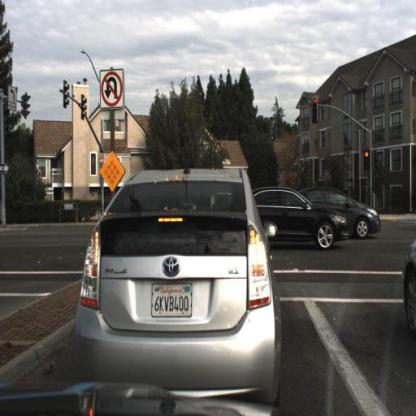car: (69, 159, 285, 393), (229, 182, 350, 254), (300, 183, 386, 246), (398, 221, 416, 348)
trafficLight-Red: (309, 91, 321, 127), (361, 145, 373, 176)
